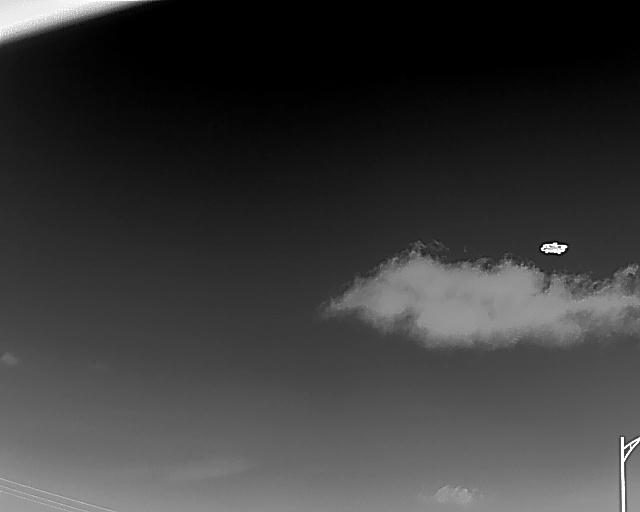fpv-drone: (540, 242, 567, 254)
